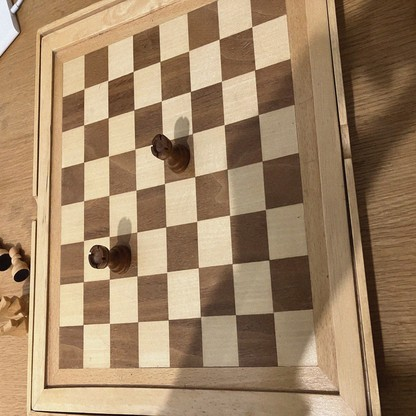knight_white: (1, 296, 30, 314), (1, 318, 29, 334)
pawn_white: (10, 247, 29, 282)
rock_black: (151, 135, 190, 174), (89, 245, 131, 274)
